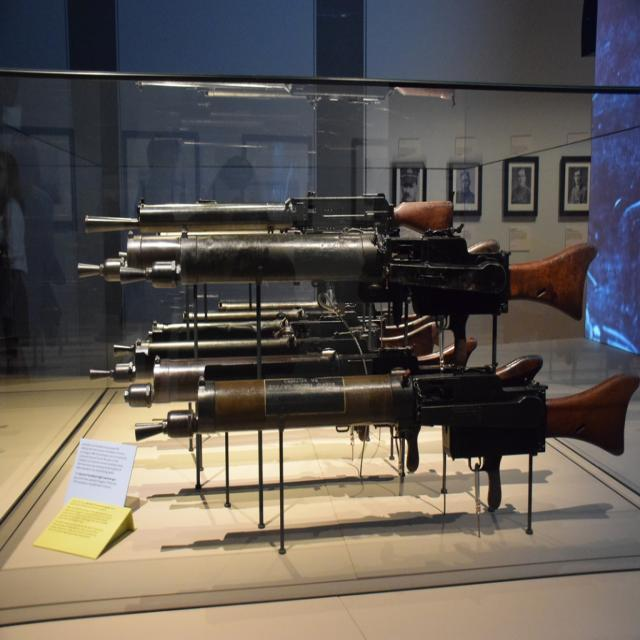weapon: (70, 174, 550, 400)
